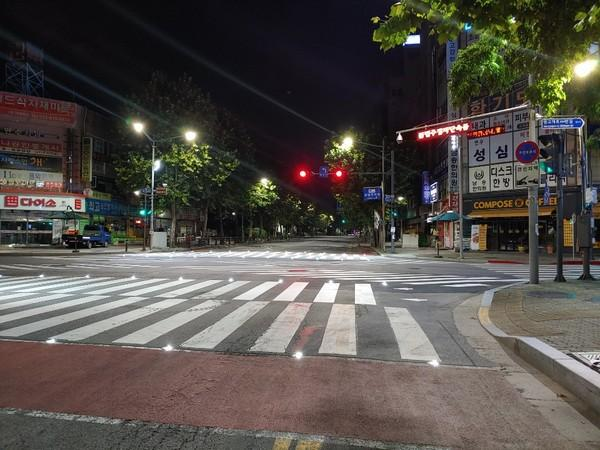crosswalk: (0, 271, 551, 370), (136, 249, 401, 265), (480, 254, 600, 288)
